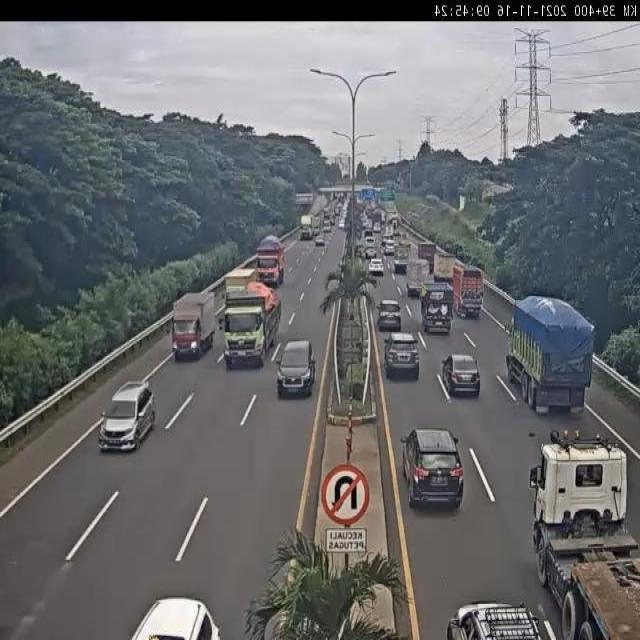Car: (401, 428, 464, 511), (445, 598, 554, 639), (126, 596, 221, 640), (99, 378, 155, 452), (277, 338, 316, 402), (442, 353, 482, 400), (383, 332, 421, 381), (376, 298, 403, 332), (368, 258, 384, 277), (384, 240, 394, 256), (315, 234, 325, 246)
Truck: (530, 429, 640, 640), (505, 293, 596, 417), (225, 284, 282, 369), (170, 290, 216, 359), (420, 282, 453, 334), (452, 265, 485, 316), (256, 234, 286, 286)
